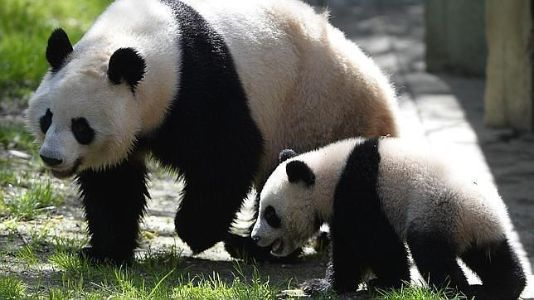bear: (27, 2, 406, 270), (248, 134, 527, 295)
